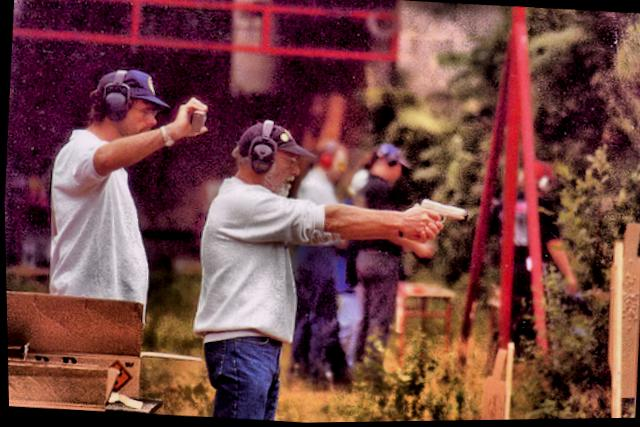pistol: (406, 196, 467, 244)
